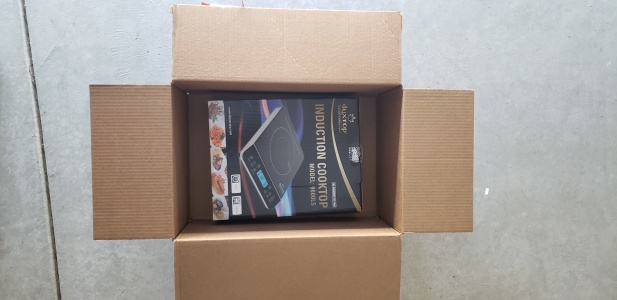innerbox: (171, 79, 404, 237)
outerbox: (92, 5, 473, 297)
product: (206, 98, 361, 217)
